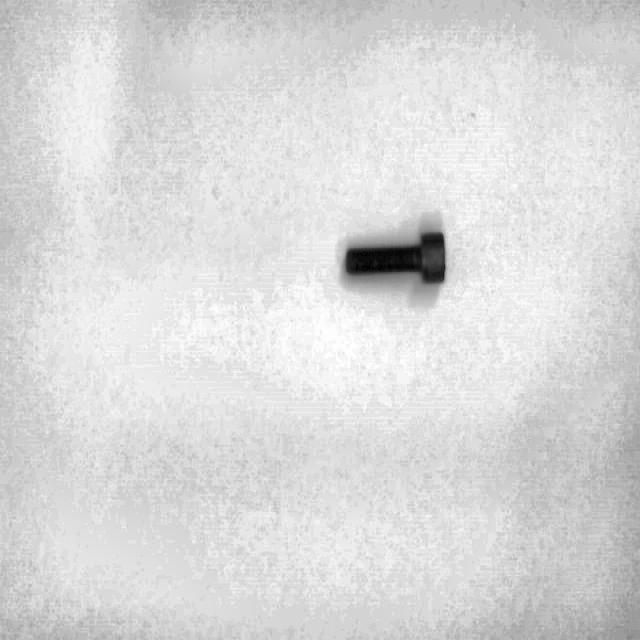Socket head cap screw: (343, 228, 447, 285)
